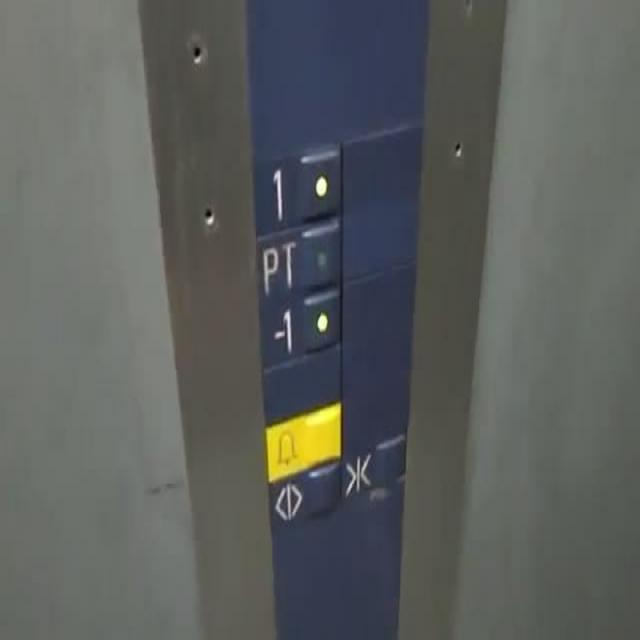-1: (259, 279, 344, 373)
1: (248, 143, 344, 236)
PT: (254, 210, 344, 310)
alarm: (262, 396, 344, 485)
close: (340, 425, 409, 507)
open: (266, 451, 344, 540)
